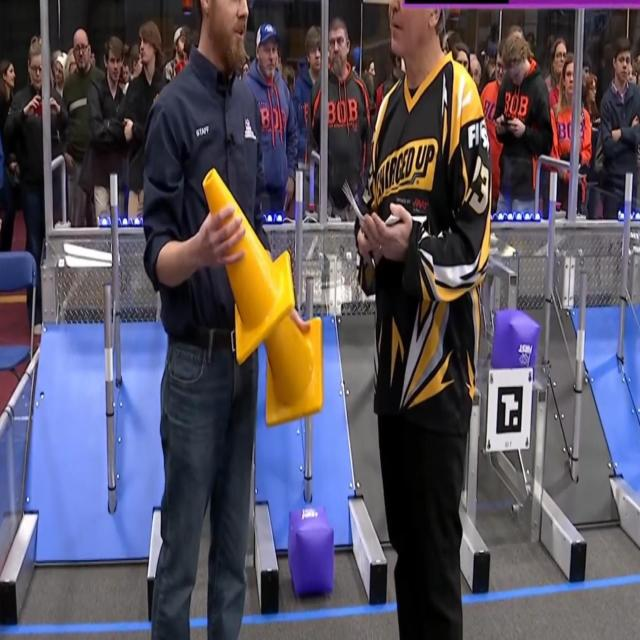frc_cone: (201, 165, 297, 364), (258, 304, 322, 425)
frc_cube: (288, 506, 334, 597), (492, 307, 538, 376)
